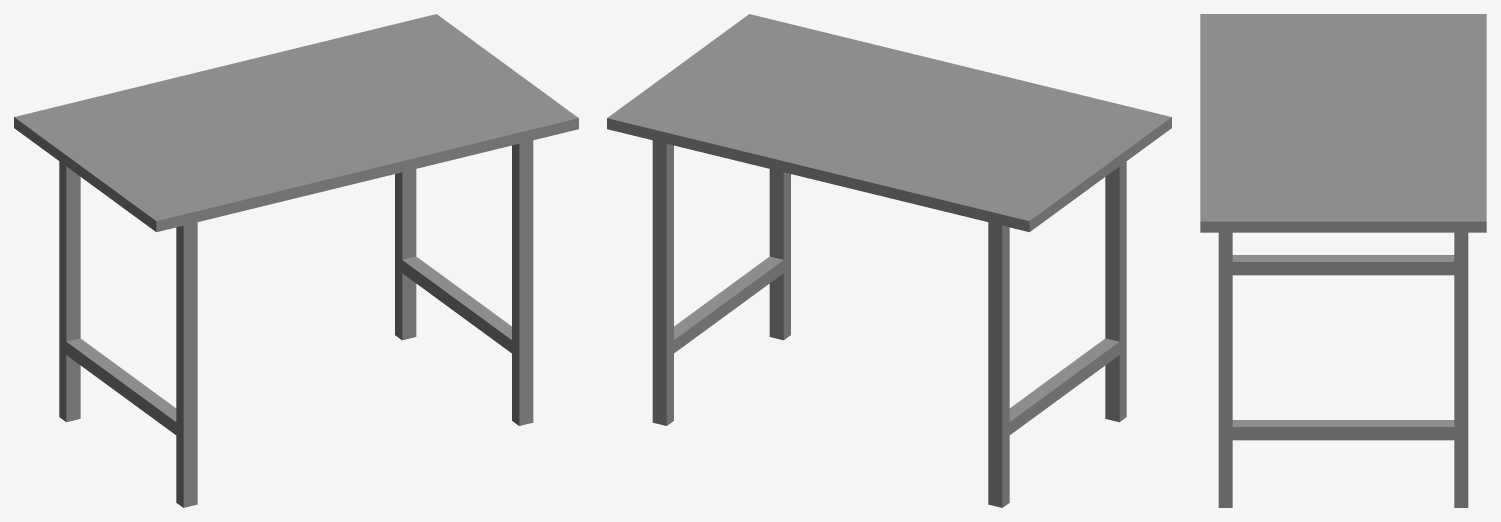
Rendered from table.fbx.
The picture shows the model from 3 angles, left to right: view 1: azimuth 30°, elevation 25°; view 2: azimuth 150°, elevation 25°; view 3: azimuth 270°, elevation 25°; orthographic projection.
Visible parts, largest first — view 1: Cube, Cube.001; view 2: Cube, Cube.001; view 3: Cube, Cube.001.
Boxes of the visible parts, x1=… form: Cube: x1=14, y1=14, x2=578, y2=232; Cube.001: x1=59, y1=140, x2=533, y2=507; Cube: x1=607, y1=14, x2=1171, y2=232; Cube.001: x1=652, y1=140, x2=1126, y2=507; Cube: x1=1200, y1=14, x2=1486, y2=232; Cube.001: x1=1218, y1=232, x2=1468, y2=507.
Size of the model in its own units: 120 by 82.03 by 70.
